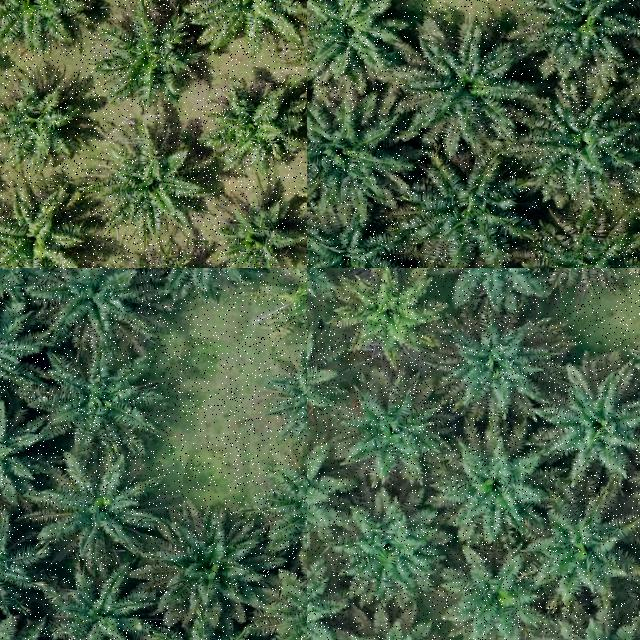Ganoderma: (274, 268, 307, 332)
